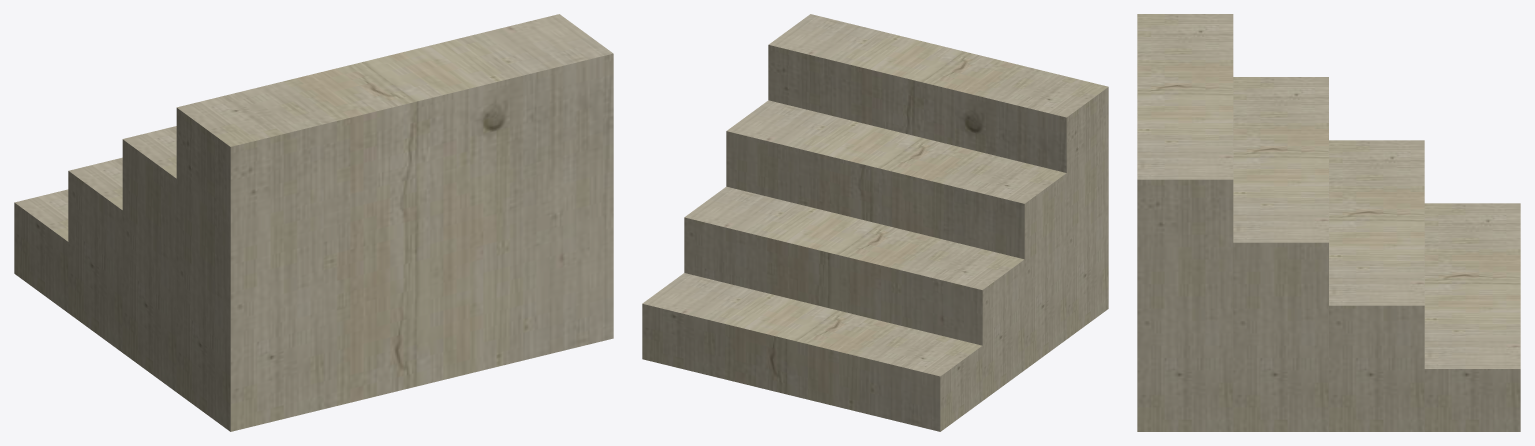
The model's file is stair_shielded.glb.
3 renders of one model, left to right at view 1: azimuth 30°, elevation 25°; view 2: azimuth 150°, elevation 25°; view 3: azimuth 270°, elevation 25°, orthographic. The views are drawn at different scales.
Visible parts, largest first — view 1: stair; view 2: stair; view 3: stair.
Part boxes in pixels (x1=…): stair: x1=14, y1=14, x2=613, y2=431; stair: x1=642, y1=14, x2=1108, y2=431; stair: x1=1137, y1=14, x2=1520, y2=431.
Bounding box in the file's own units: 0.9 × 0.64 × 0.88.
1 material, 1 textured.
